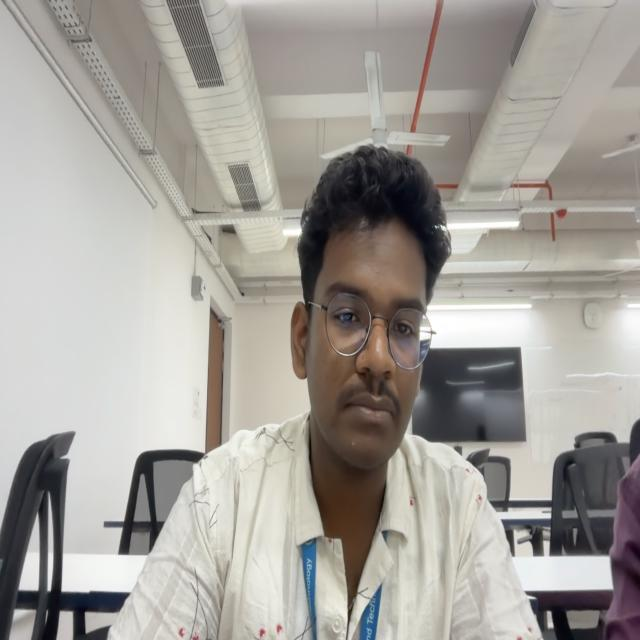sai: (292, 142, 448, 463)
